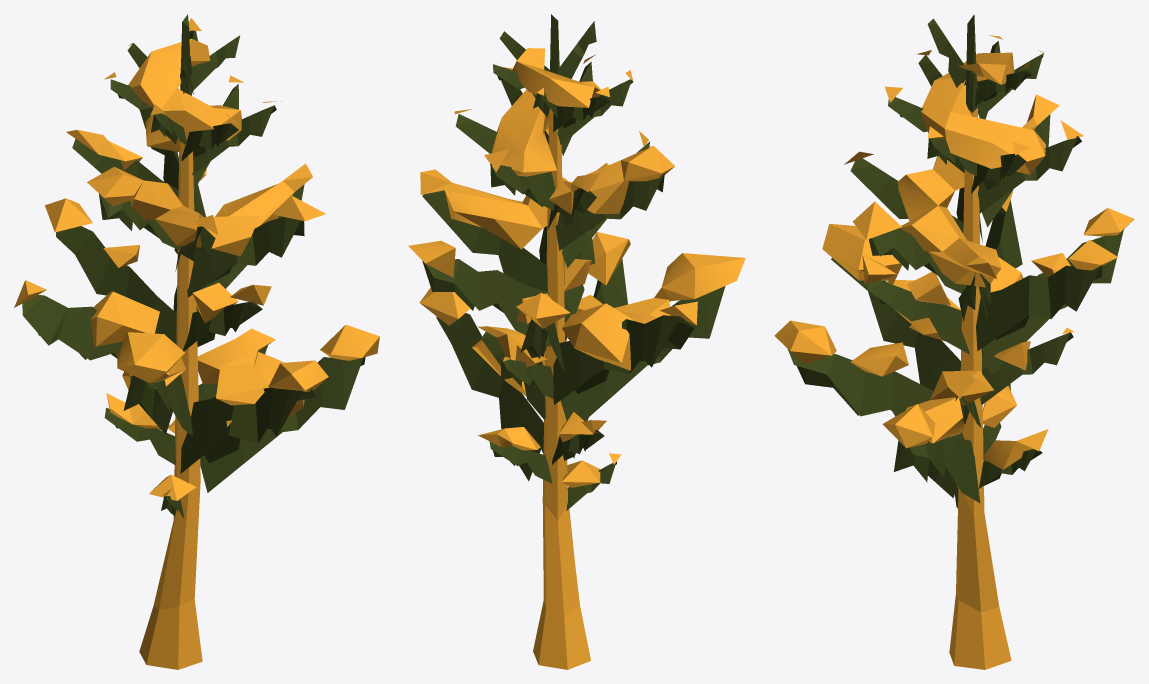
Rendered from SM_Tree_Spruce_Sapling_A_Snow.fbx.
3 views of the same model, side by side, from view 1: azimuth 30°, elevation 25°; view 2: azimuth 150°, elevation 25°; view 3: azimuth 270°, elevation 25° (orthographic). The views are drawn at different scales.
Visible parts, largest first — view 1: tree-spruce-sapling-a-snow; view 2: tree-spruce-sapling-a-snow; view 3: tree-spruce-sapling-a-snow.
Part boxes in pixels (x1=…): tree-spruce-sapling-a-snow: x1=14, y1=14, x2=379, y2=669; tree-spruce-sapling-a-snow: x1=408, y1=14, x2=745, y2=669; tree-spruce-sapling-a-snow: x1=774, y1=14, x2=1134, y2=669.
Bounding box in the file's own units: 0.7835 × 1.52 × 0.7639.
